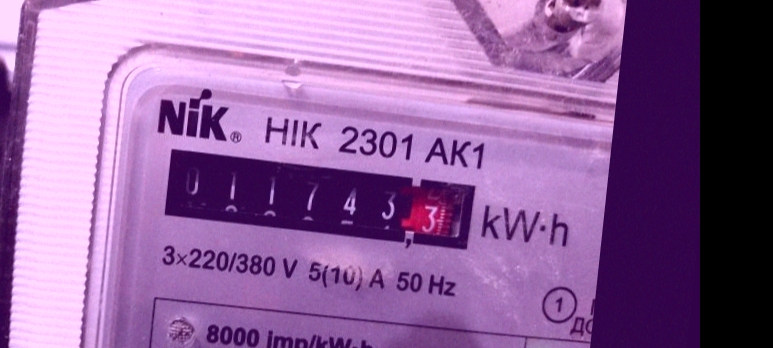0: (180, 161, 203, 199)
1: (263, 171, 281, 206), (226, 167, 239, 200)
3: (376, 186, 398, 222), (418, 202, 440, 237)
4: (339, 182, 359, 217)
7: (300, 177, 322, 212)
screen: (147, 135, 490, 264)
